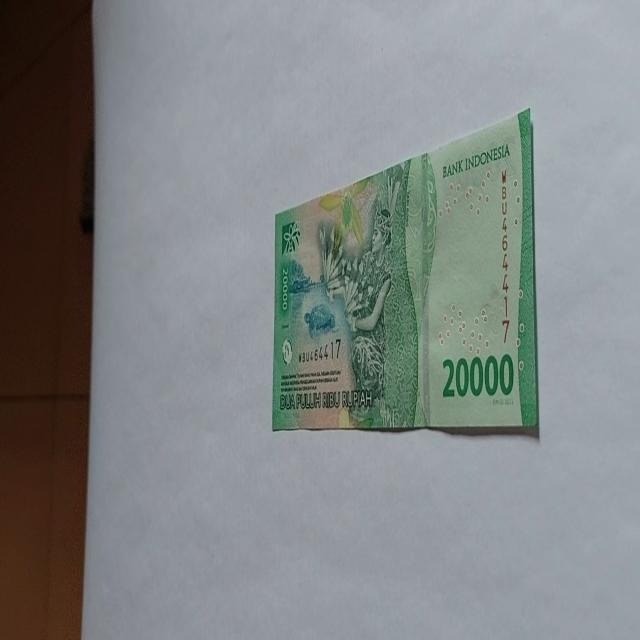dua puluh ribu rupiah: (270, 106, 540, 438)
